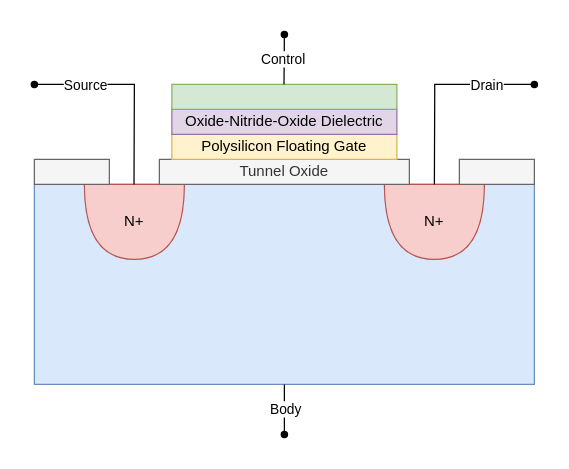
The diagram is 569 pixels wide and 469 high, and some of its shapes have lost their labels. The box of each missing label's shape, as (x1, y1, x2, y2) in pixels:
P-type Substrate: (33, 183, 534, 384)
Polysilicon Control Gate: (171, 83, 397, 109)
